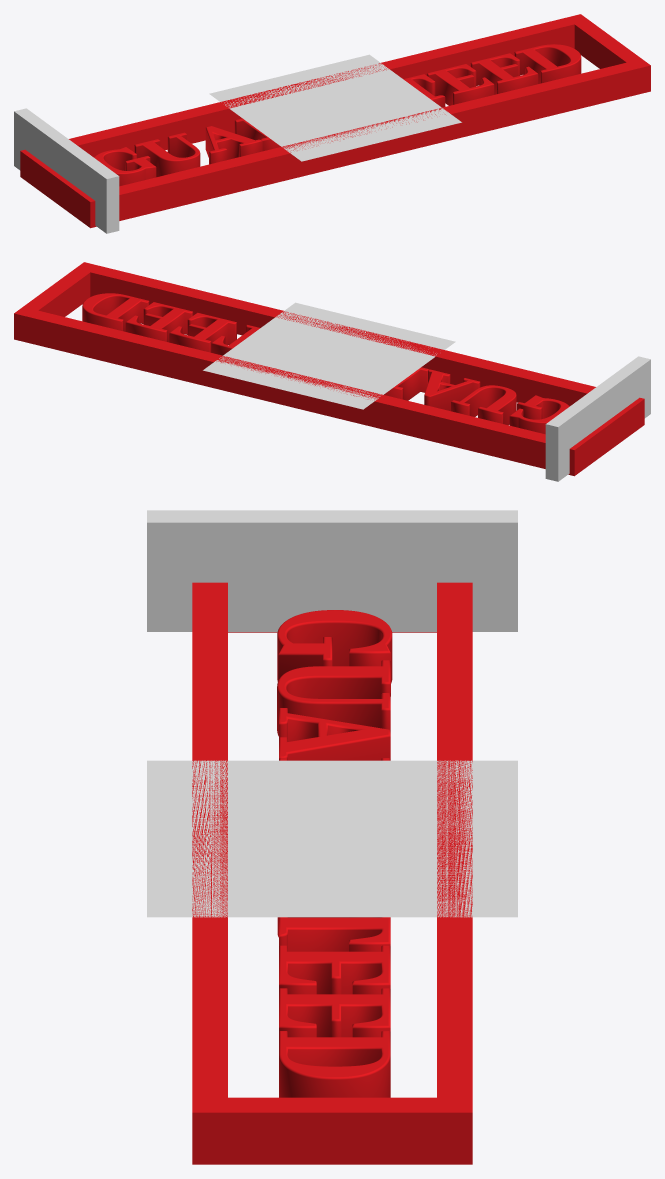
Rendered from geek.glb.
The picture shows the model from 3 angles, top to bottom: view 1: azimuth 30°, elevation 25°; view 2: azimuth 150°, elevation 25°; view 3: azimuth 270°, elevation 25°; orthographic projection. The views are drawn at different scales.
Parts seen in each view (by area): view 1: geek-text, Cube; view 2: geek-text, Cube; view 3: Cube, geek-text.
Part boxes in pixels (x1=…): geek-text: x1=20, y1=14, x2=650, y2=228; Cube: x1=14, y1=54, x2=461, y2=233; geek-text: x1=14, y1=262, x2=644, y2=476; Cube: x1=203, y1=302, x2=650, y2=481; Cube: x1=147, y1=510, x2=517, y2=917; geek-text: x1=192, y1=582, x2=472, y2=1164.
Size of the model in its own units: 6.98 by 0.6675 by 2.
